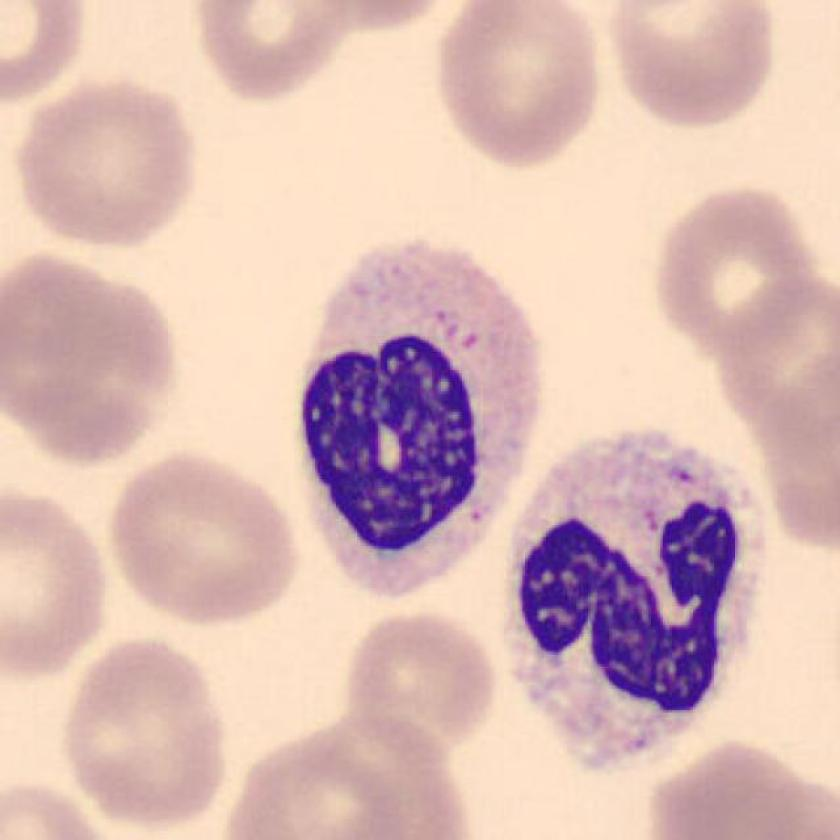neutrophil: (513, 436, 769, 763), (304, 239, 538, 592)
